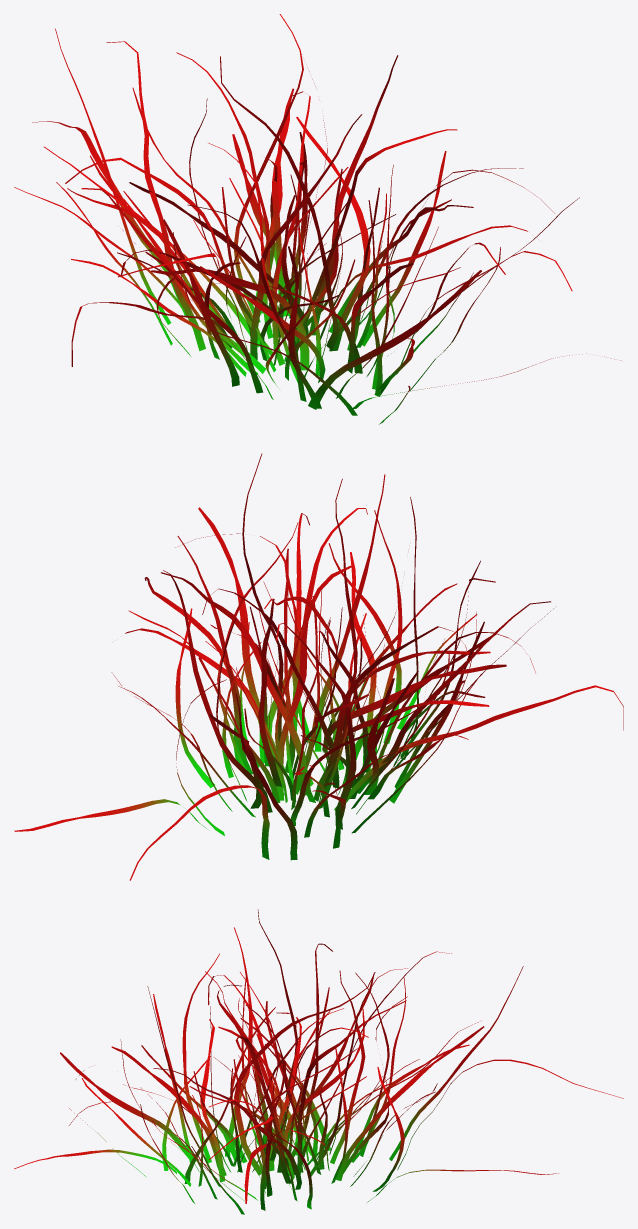
Rendered from Var9_LOD0.fbx.
3 views of the same model, one above another, from view 1: azimuth 30°, elevation 25°; view 2: azimuth 150°, elevation 25°; view 3: azimuth 270°, elevation 25° (orthographic). The views are drawn at different scales.
Visible parts, largest first — view 1: _9pu1_Var9_LOD0; view 2: _9pu1_Var9_LOD0; view 3: _9pu1_Var9_LOD0.
Boxes of the visible parts, bbox=[...] form: _9pu1_Var9_LOD0: bbox=[14, 14, 621, 424]; _9pu1_Var9_LOD0: bbox=[14, 453, 623, 880]; _9pu1_Var9_LOD0: bbox=[14, 909, 623, 1214].
Size of the model in its own units: 19.05 by 11.52 by 26.34.
